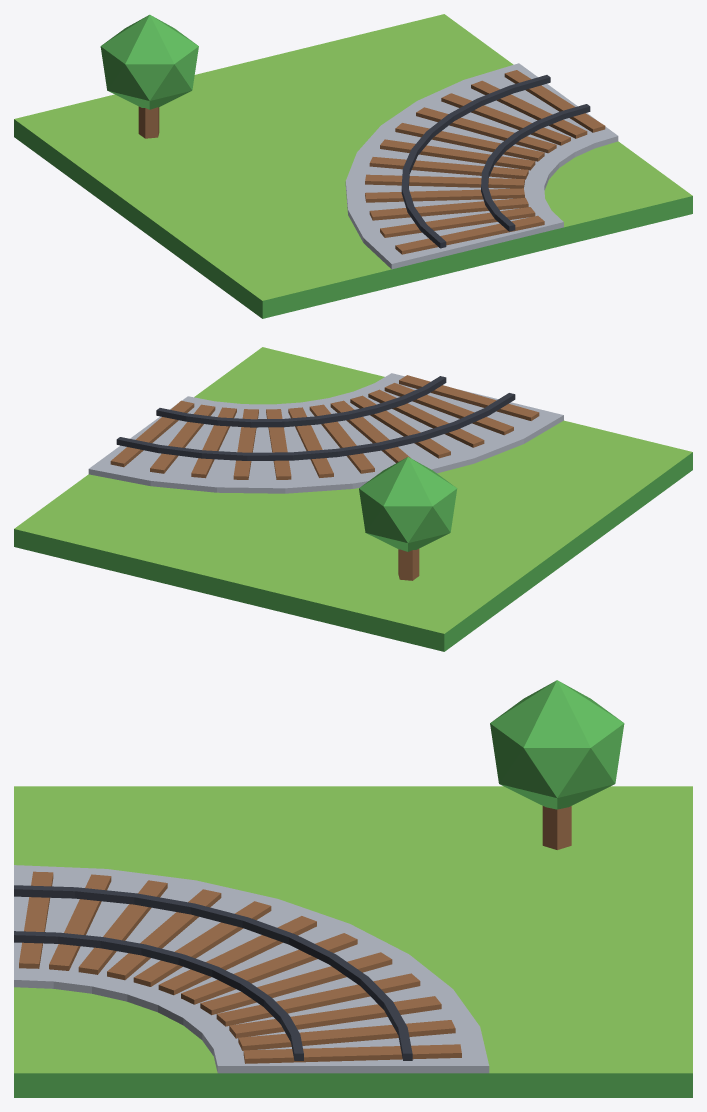
Rendered from rail_corner.glb.
3 renders of one model, top to bottom at view 1: azimuth 30°, elevation 25°; view 2: azimuth 150°, elevation 25°; view 3: azimuth 270°, elevation 25°, orthographic. The views are drawn at different scales.
Parts seen in each view (by area): view 1: rail_corner; view 2: rail_corner; view 3: rail_corner.
Part boxes in pixels (x1,y1,x2,y2): rail_corner: (14,14,692,318); rail_corner: (14,347,692,651); rail_corner: (14,680,692,1097).
Size of the model in its own units: 1 by 0.306 by 1.
